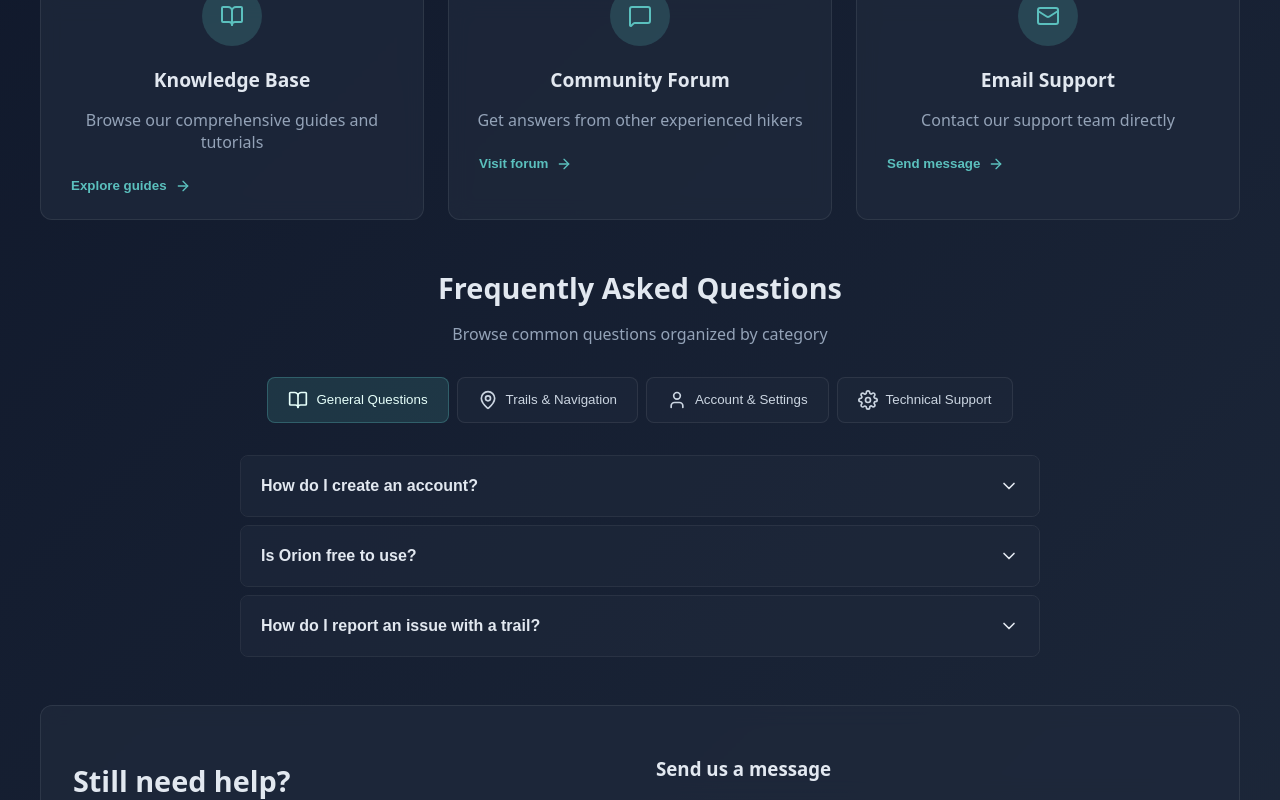
Scenario: HelpCenterPage Component › Category Navigation › switches to trails category
Click the button "Trails & Navigation".
click(547, 400)  # box [457,377,638,423]
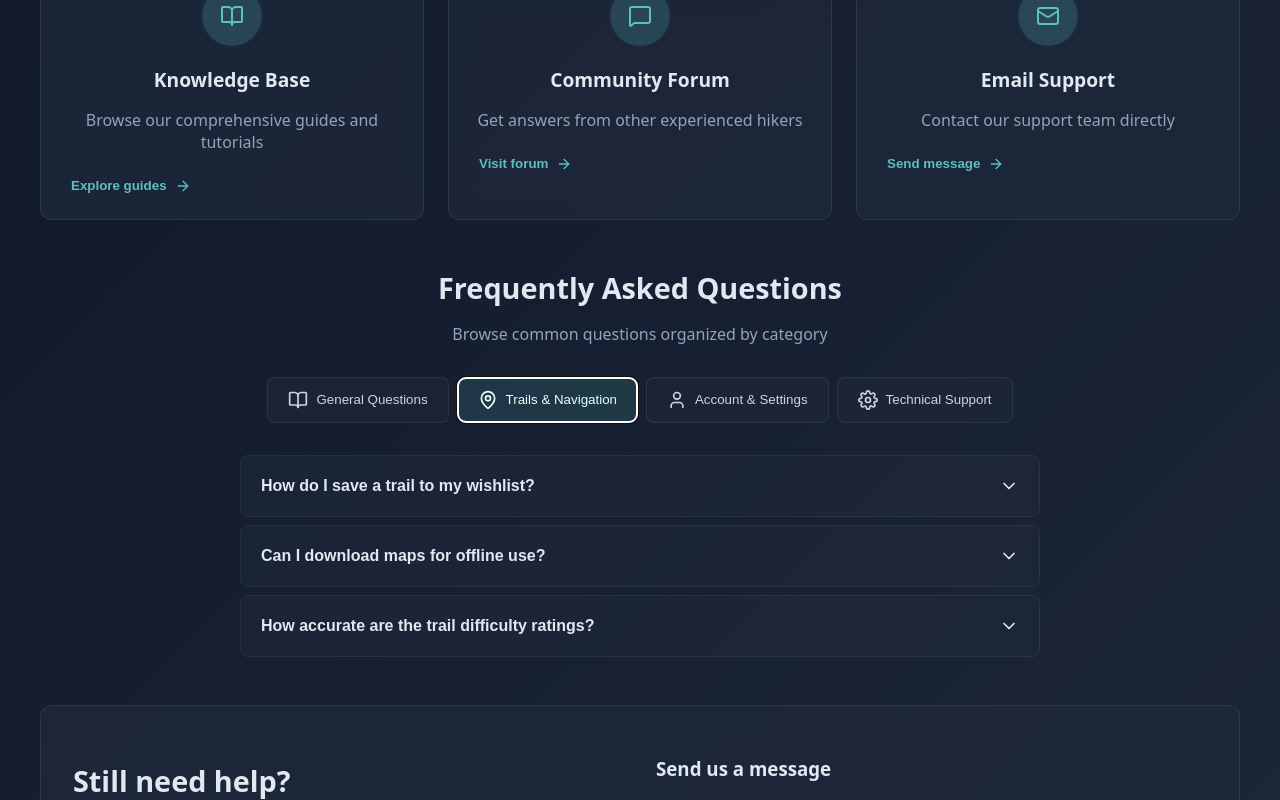
Check: the text "How do I save a trail to my wishlist?" is shown, box [261,477,535,495]
